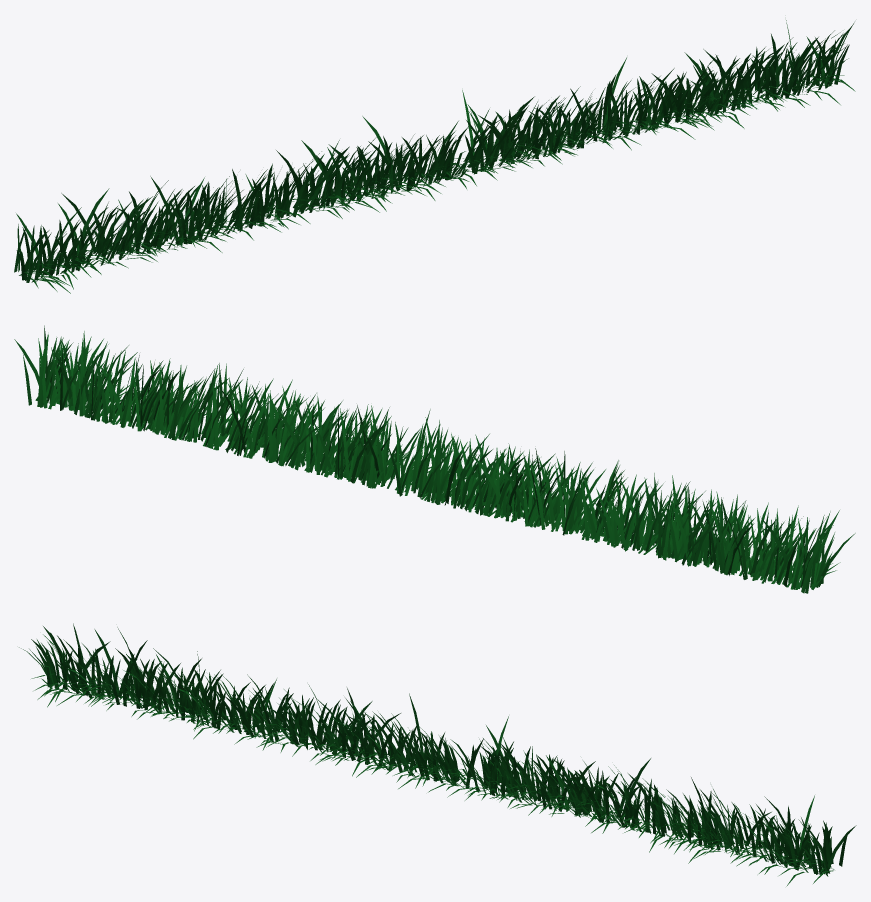
Rendered from grass_long.FBX.
3 views of the same model, one above another, from view 1: azimuth 30°, elevation 25°; view 2: azimuth 150°, elevation 25°; view 3: azimuth 330°, elevation 25° (orthographic). The views are drawn at different scales.
Visible parts, largest first — view 1: default002; view 2: default002; view 3: default002.
Part boxes in pixels (x1,y1,x2,y2): default002: (14,20,855,293); default002: (14,325,855,593); default002: (19,623,856,886).
Bounding box in the file's own units: 3.87 × 0.3016 × 0.3822.
